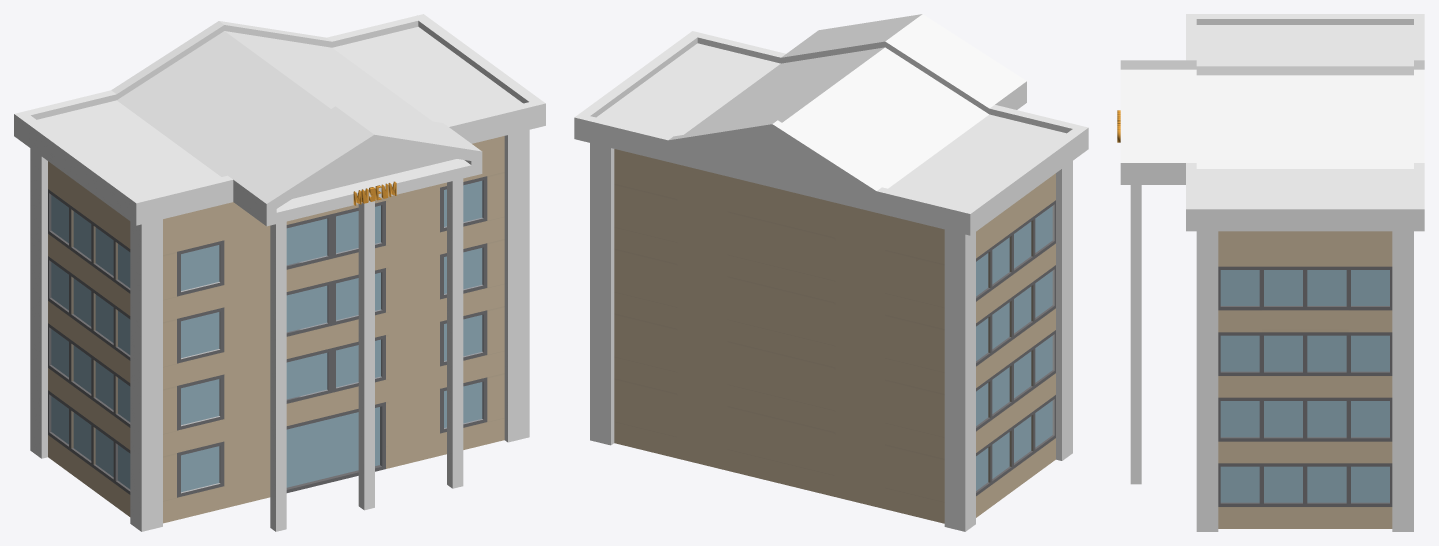
The model's file is museum.fbx.
The picture shows the model from 3 angles, left to right: view 1: azimuth 30°, elevation 25°; view 2: azimuth 150°, elevation 25°; view 3: azimuth 270°, elevation 25°; orthographic projection. The views are drawn at different scales.
Parts seen in each view (by area): view 1: Text; view 2: Text; view 3: Text.
Part boxes in pixels (left/top/right/bottom): Text: left=14, top=14, right=545, bottom=531; Text: left=574, top=14, right=1088, bottom=531; Text: left=1117, top=14, right=1424, bottom=531.
Size of the model in its own units: 2128 by 1879 by 1416.
